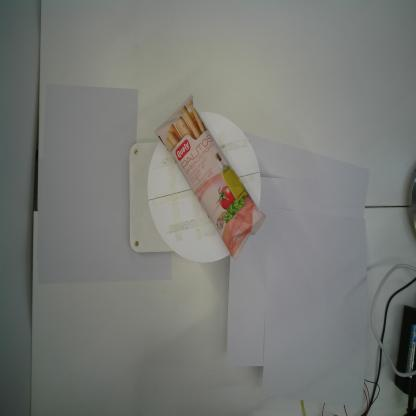Dessert: (153, 93, 268, 262)
